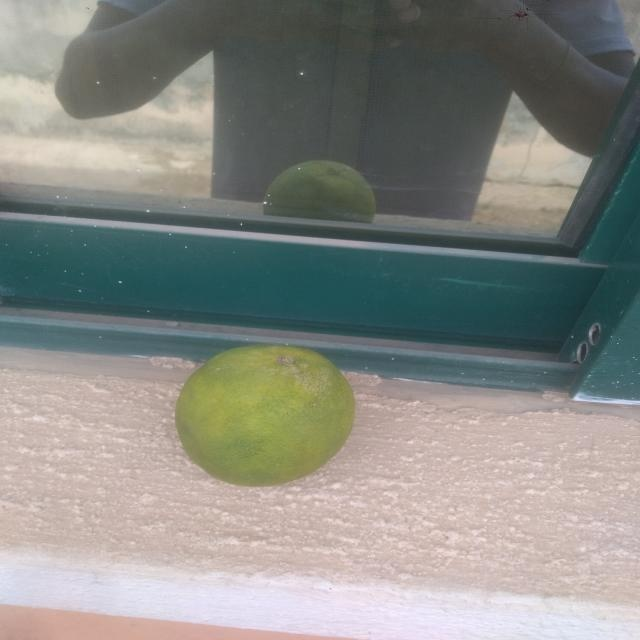agrume: (164, 328, 392, 512)
